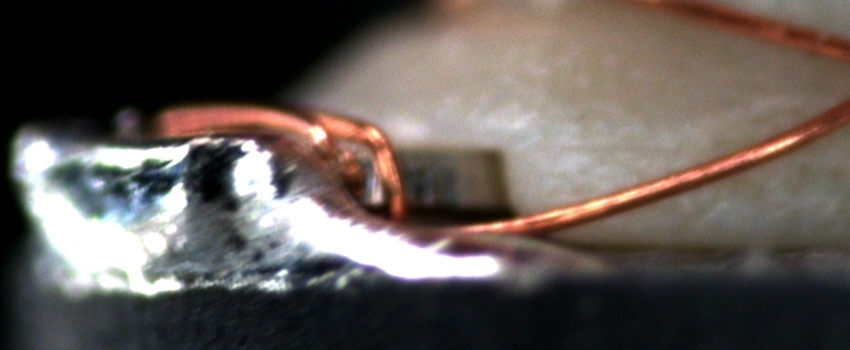DL: (554, 117, 679, 176)
TE: (140, 94, 424, 220)
